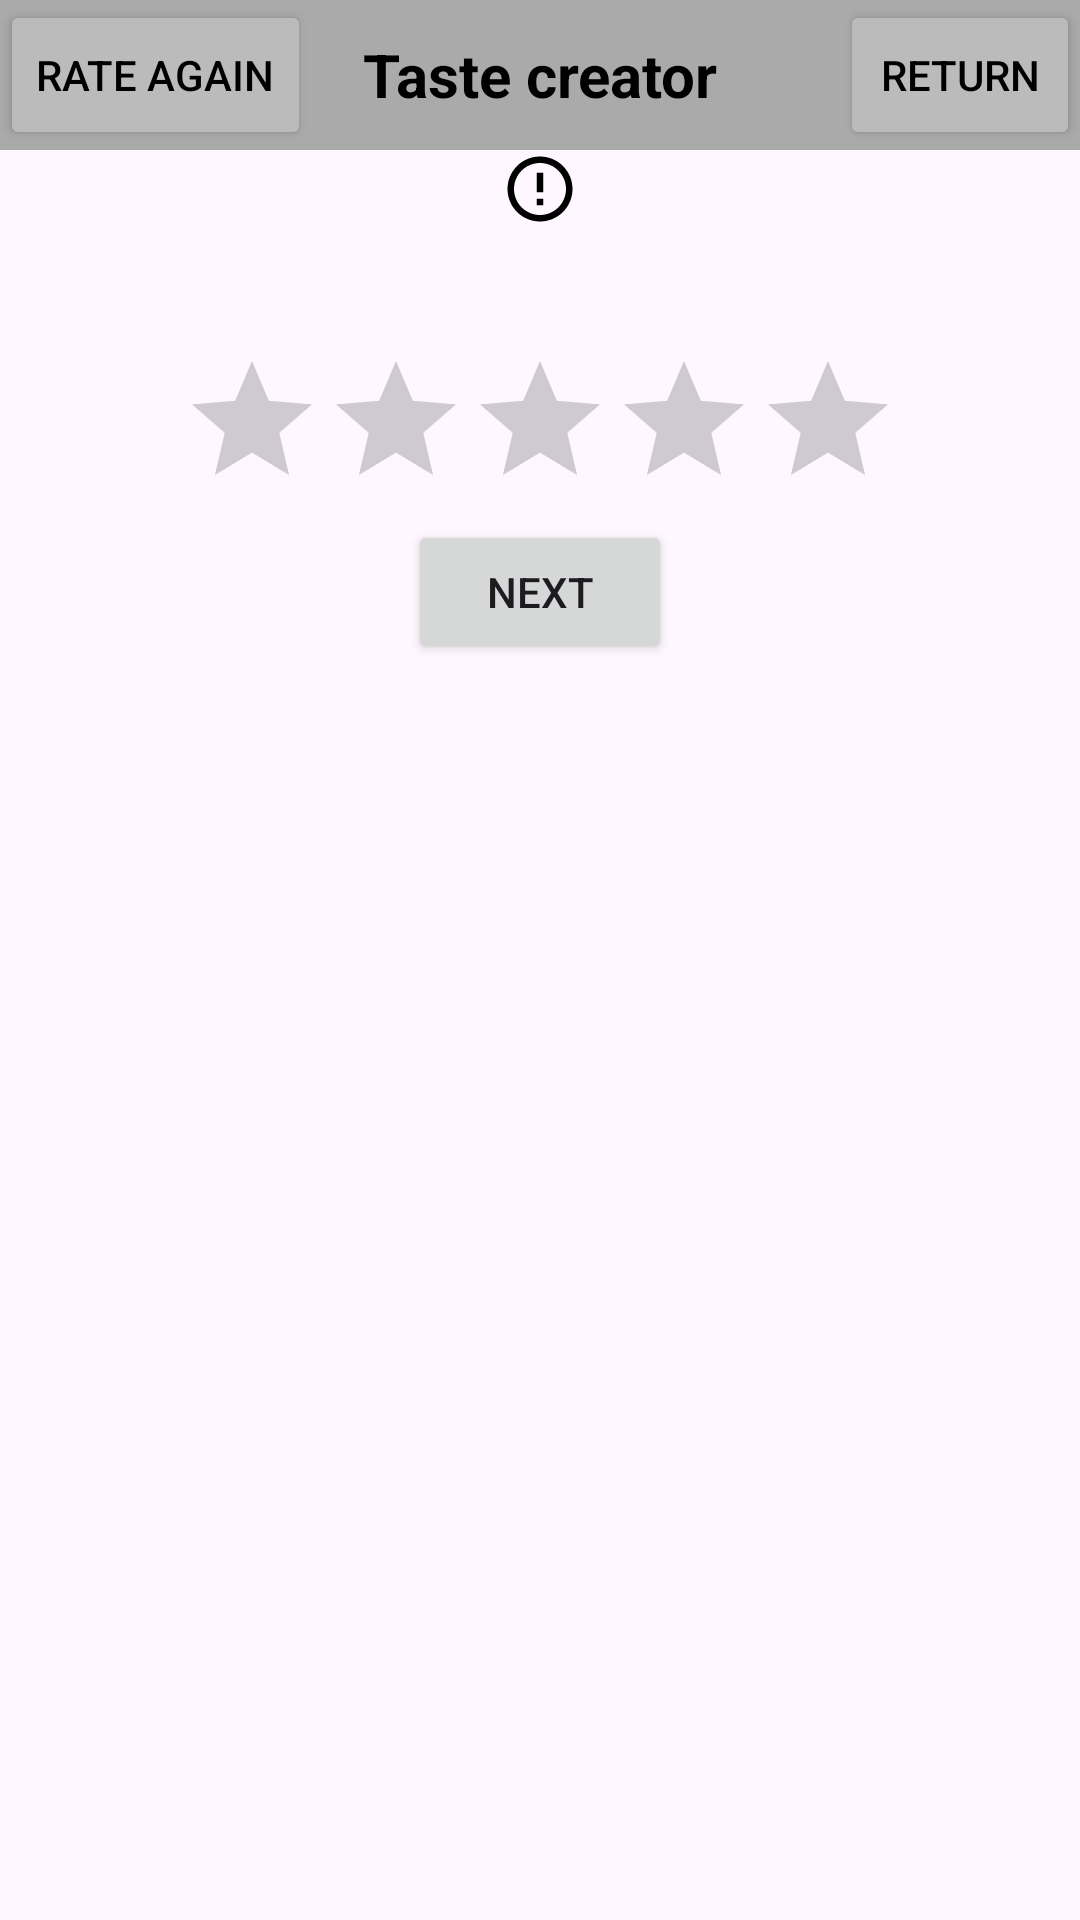

Icons on this 1080×1920 Android screen, each with its box as {"left": x1, "top": y1, "right": x2, "bottom": y2}:
error: {"left": 507, "top": 156, "right": 573, "bottom": 222}
